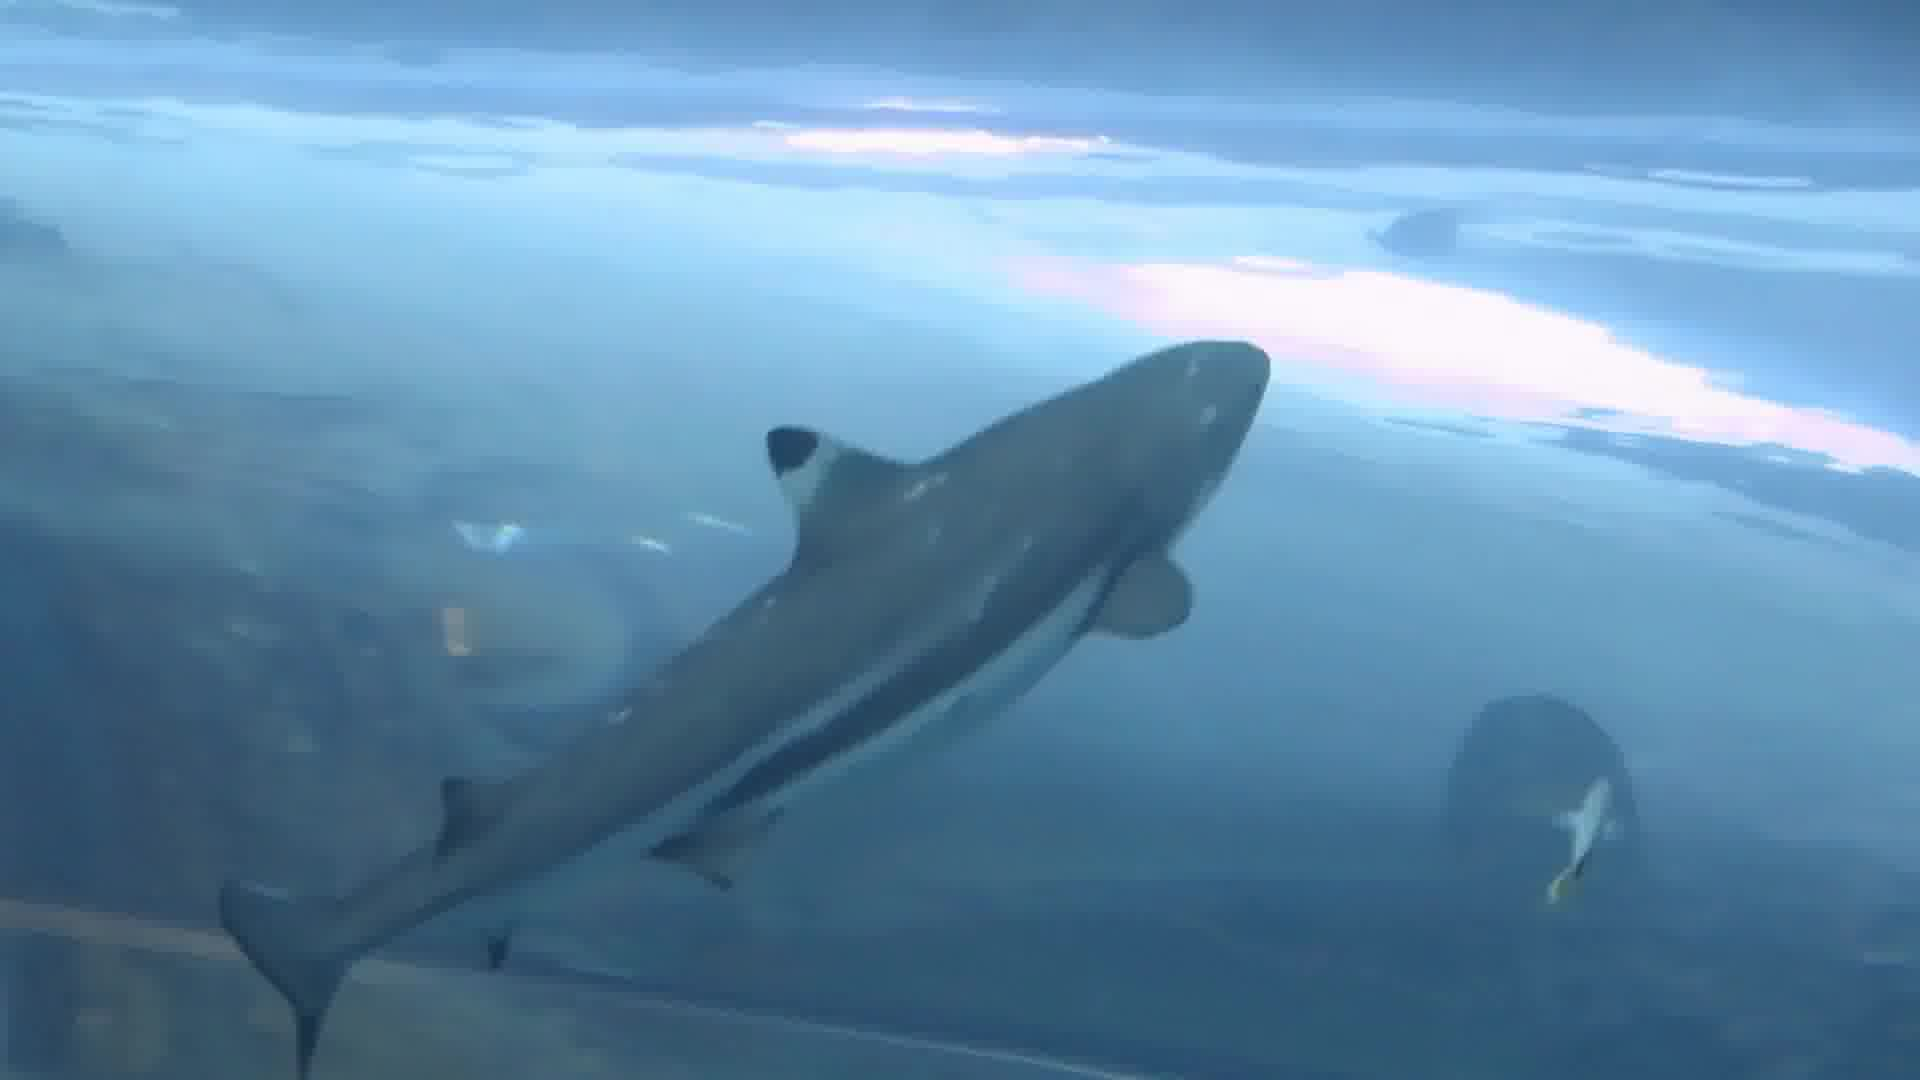Carcharhinus melanopterus: (1, 326, 1331, 1001)
